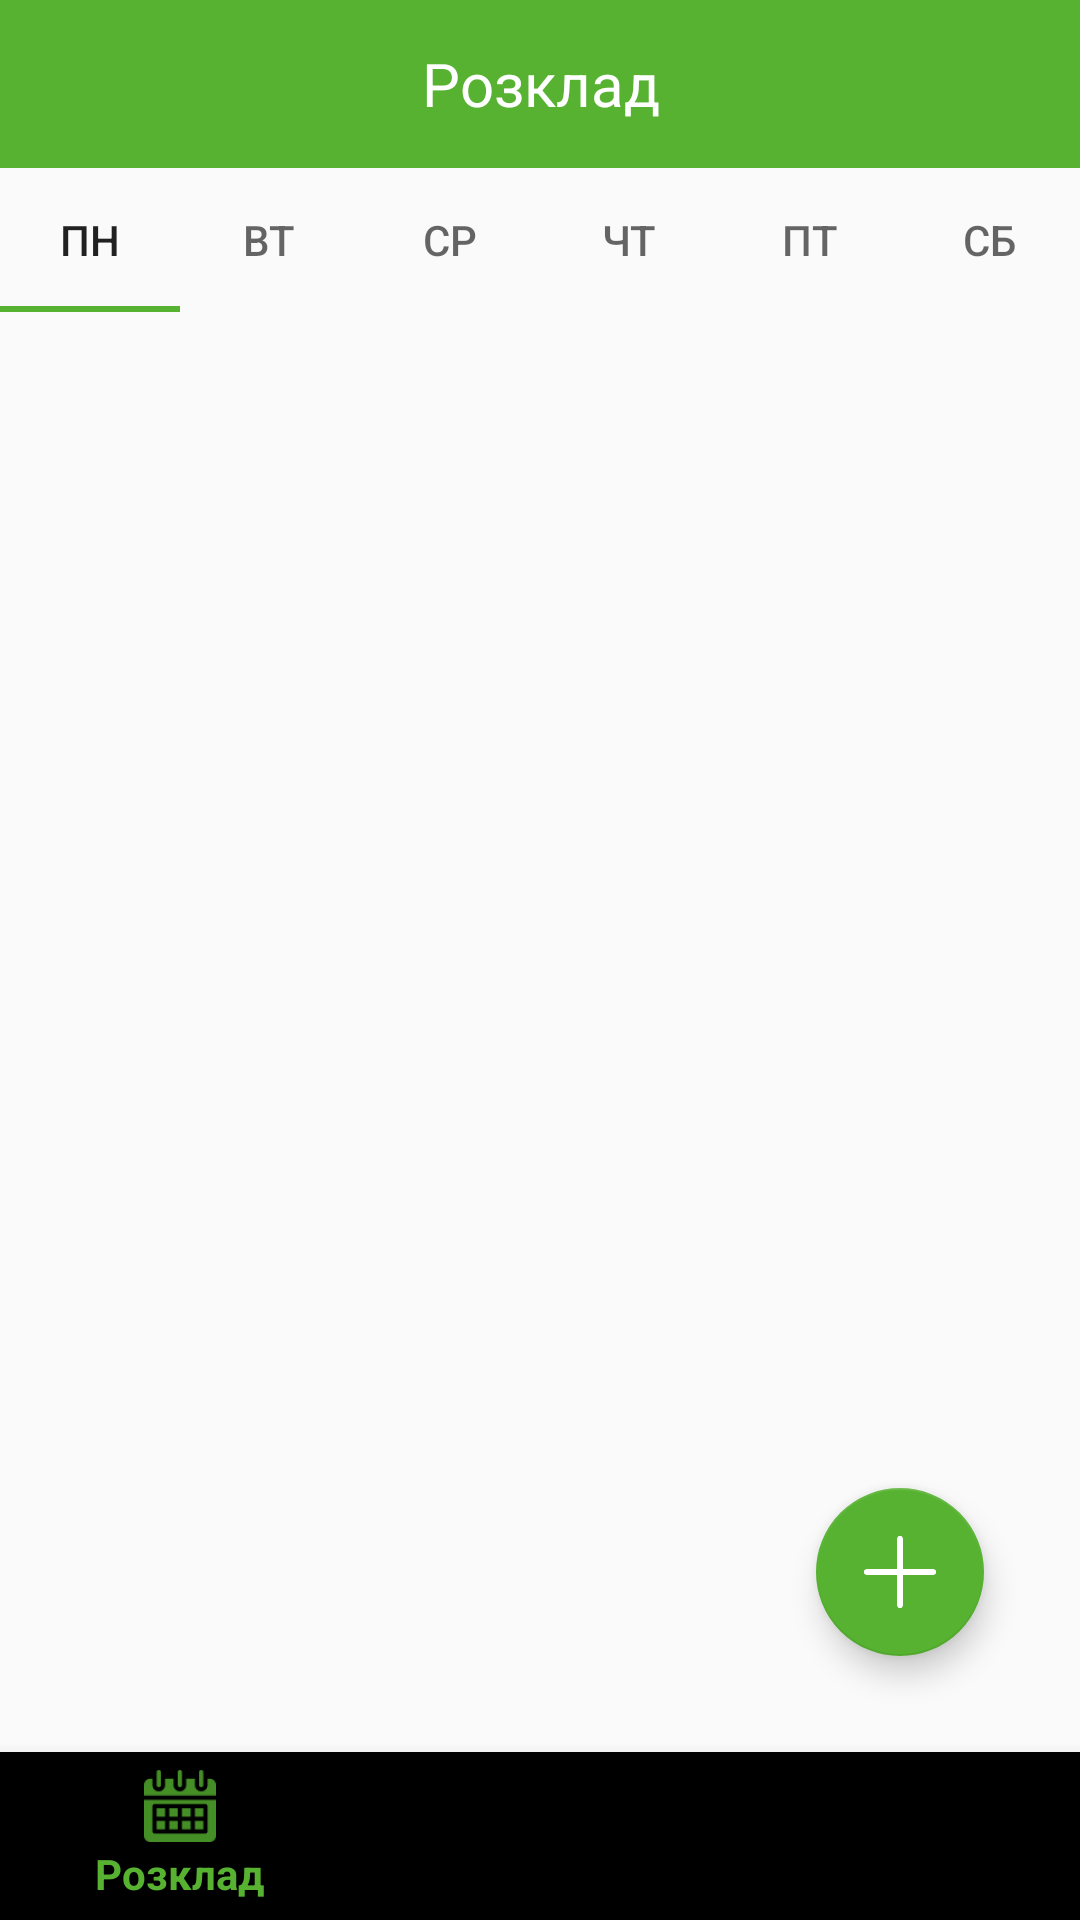

Where to tap for icons on this 1080 x 1920 app screen, as [x,y]:
plus: [900,1572]
